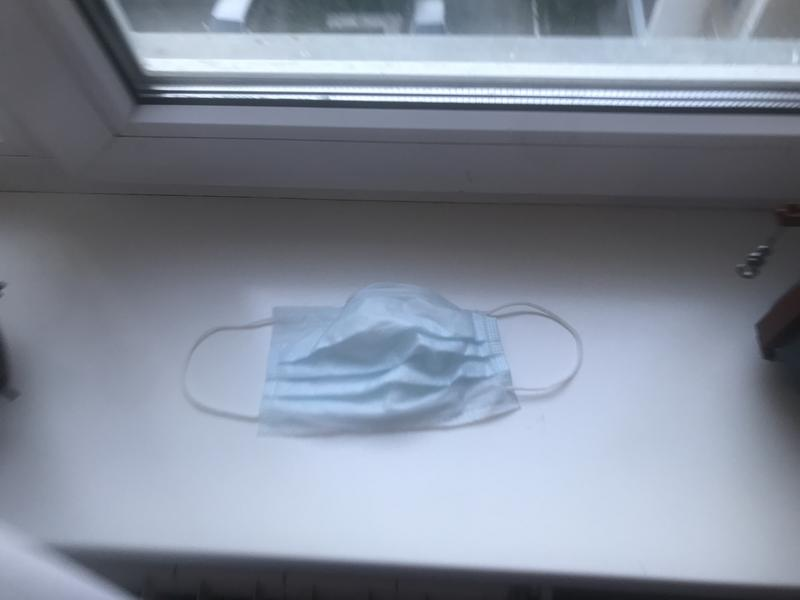medical_mask: (182, 284, 583, 421)
